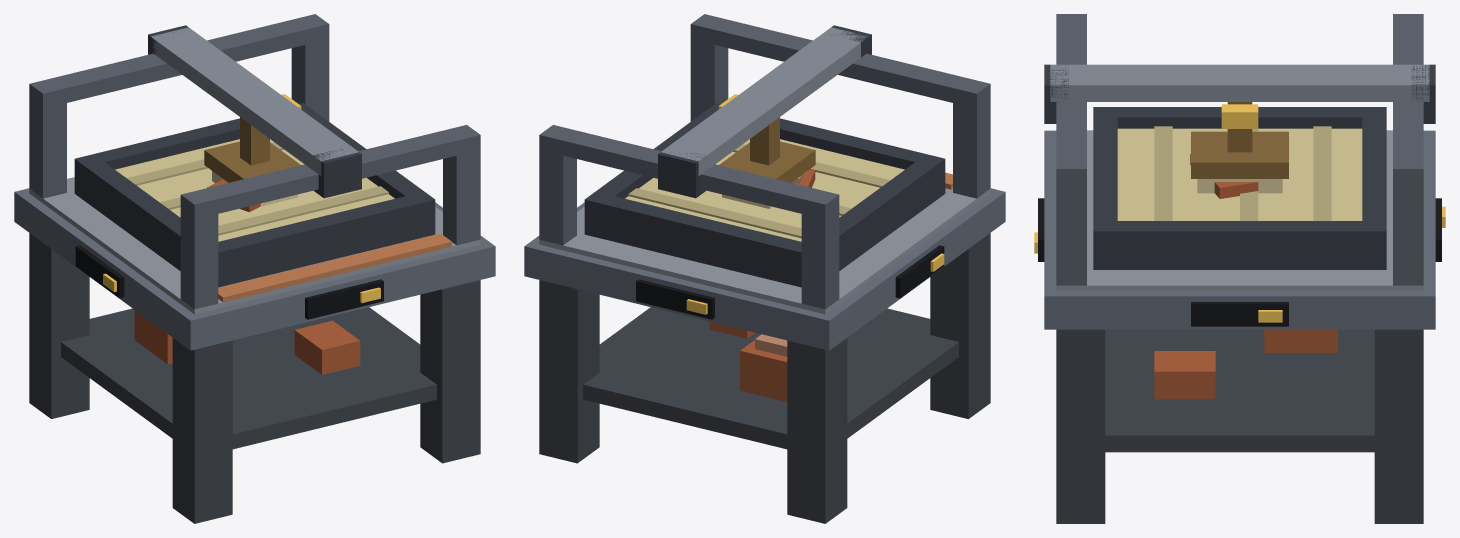
Rendered from archeo.glb.
3 renders of one model, left to right at view 1: azimuth 30°, elevation 25°; view 2: azimuth 150°, elevation 25°; view 3: azimuth 270°, elevation 25°, orthographic. The views are drawn at different scales.
Visible parts, largest first — view 1: body.054, brush, tier.029; view 2: body.054, brush; view 3: body.054, brush.
Part boxes in pixels (left/top/right/bottom): body.054: left=14, top=14, right=495, bottom=523; brush: left=148, top=25, right=361, bottom=206; tier.029: left=218, top=233, right=451, bottom=302; body.054: left=524, top=14, right=1005, bottom=523; brush: left=658, top=25, right=871, bottom=208; body.054: left=1034, top=14, right=1445, bottom=523; brush: left=1044, top=64, right=1435, bottom=193.
Bounding box in the file's own units: 1.05 × 1.05 × 1.05.
